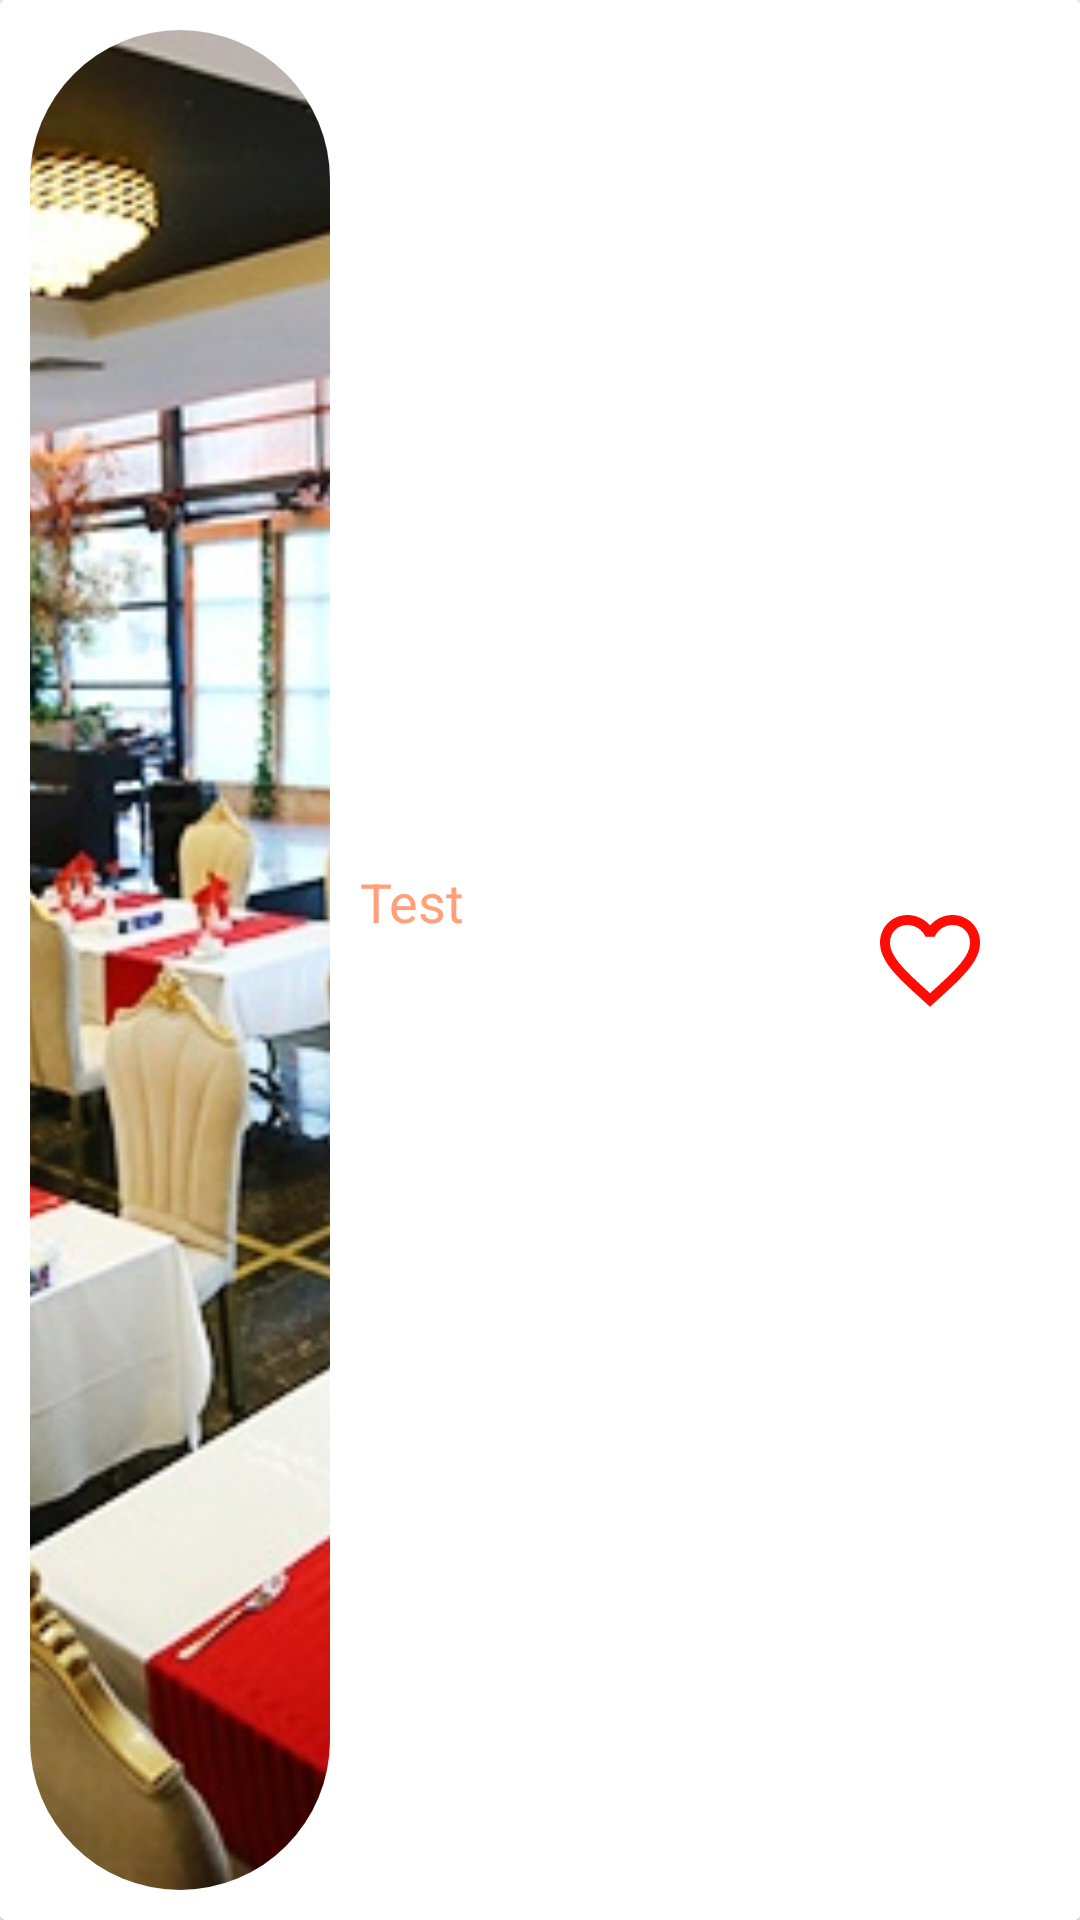

Icons on this 1080*1920 Android screen, each with the point to tap as (x=x, y=y):
favorite border: (x=930, y=961)
